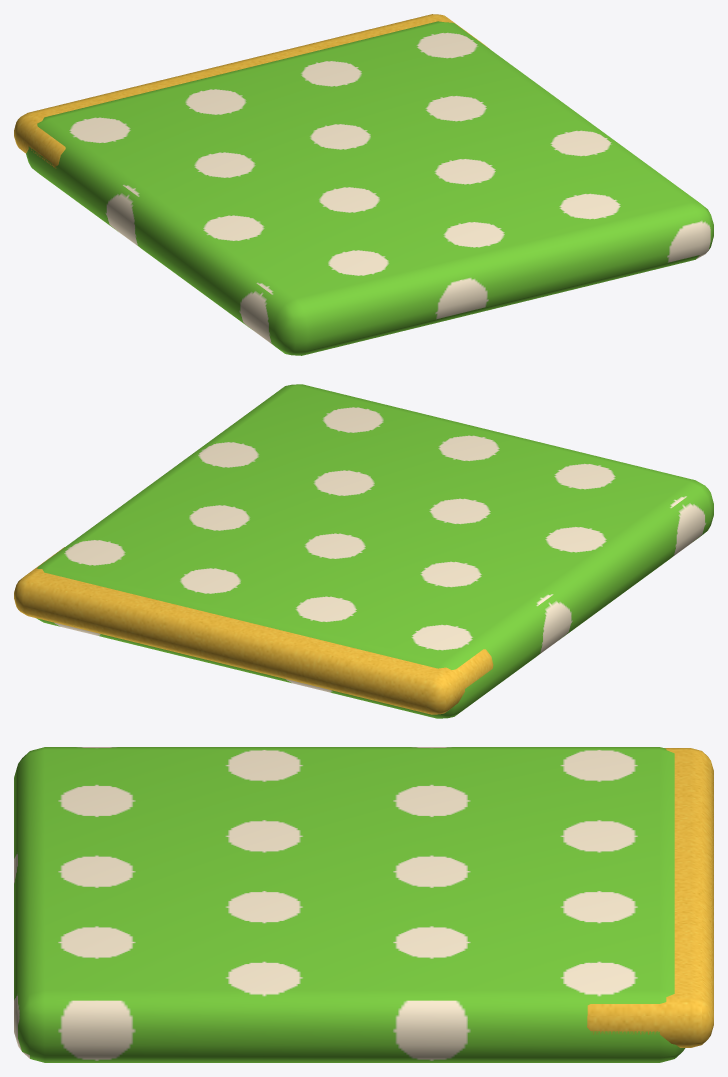
The model's file is pastel_bedspread_01.glb.
The picture shows the model from 3 angles, top to bottom: view 1: azimuth 30°, elevation 25°; view 2: azimuth 150°, elevation 25°; view 3: azimuth 270°, elevation 25°; orthographic projection. The views are drawn at different scales.
Visible parts, largest first — view 1: pastel_bedspread_01; view 2: pastel_bedspread_01; view 3: pastel_bedspread_01.
Boxes of the visible parts, x1=… form: pastel_bedspread_01: x1=14, y1=14, x2=713, y2=355; pastel_bedspread_01: x1=14, y1=384, x2=713, y2=718; pastel_bedspread_01: x1=14, y1=747, x2=713, y2=1062.
Bounding box in the file's own units: 1.64 × 0.2 × 1.82.
2 materials, 2 textured.
